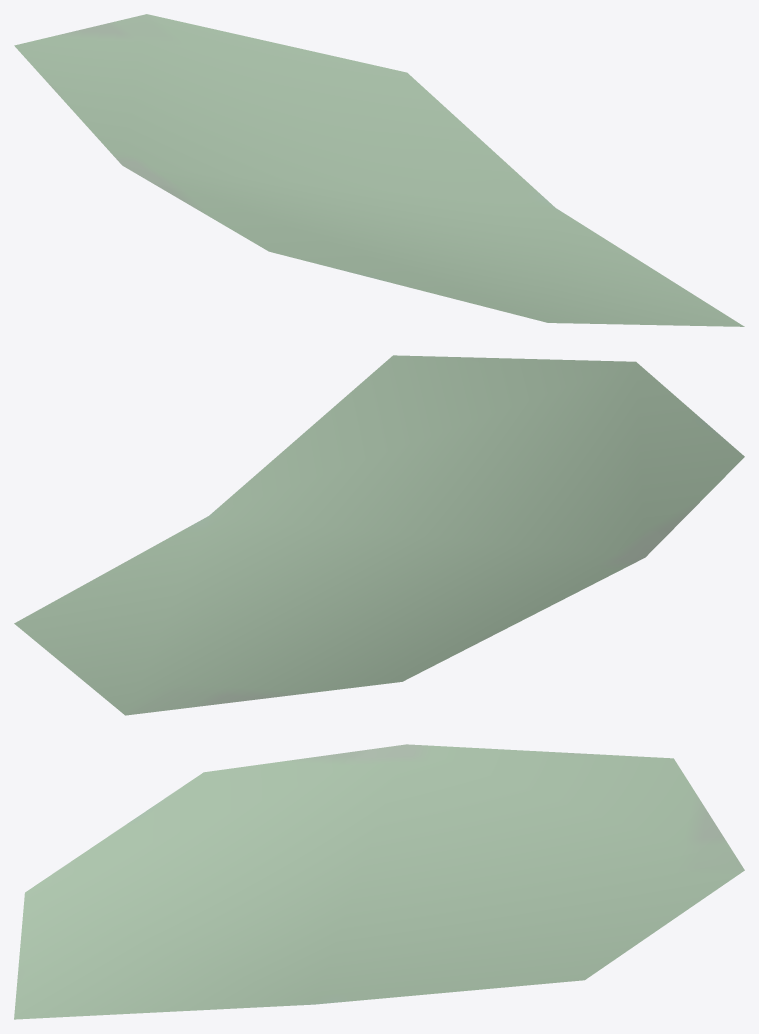
Rendered from TROLLHOLE02_HOLECAP108.fbx.
3 renders of one model, top to bottom at view 1: azimuth 30°, elevation 25°; view 2: azimuth 150°, elevation 25°; view 3: azimuth 270°, elevation 25°, orthographic. The views are drawn at different scales.
Parts seen in each view (by area): view 1: TROLLHOLE02_HOLECAP108; view 2: TROLLHOLE02_HOLECAP108; view 3: TROLLHOLE02_HOLECAP108.
Part boxes in pixels (<box>): TROLLHOLE02_HOLECAP108: <box>14,14,744,326</box>; TROLLHOLE02_HOLECAP108: <box>14,355,744,715</box>; TROLLHOLE02_HOLECAP108: <box>14,744,744,1019</box>.
Size of the model in its own units: 11809 by 2950 by 20131.
Materials: 1 (1 with a texture image).
